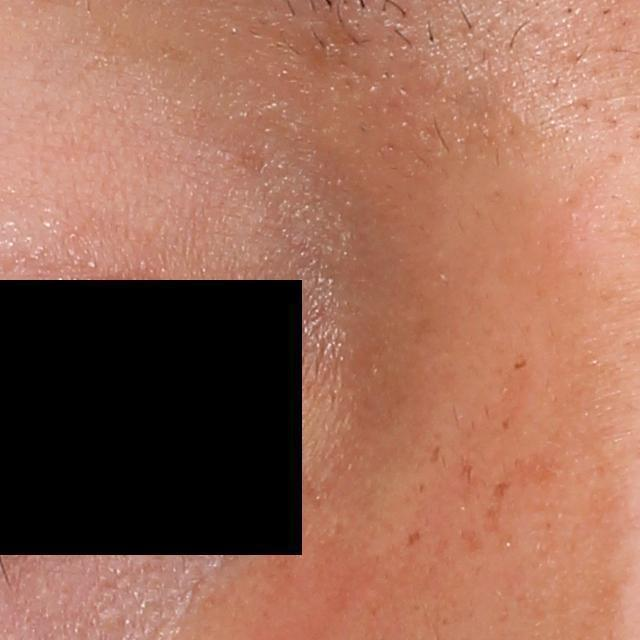melasma: (483, 479, 510, 539), (458, 526, 487, 558), (402, 525, 424, 550), (427, 443, 440, 466), (508, 357, 529, 371), (499, 415, 511, 432)
